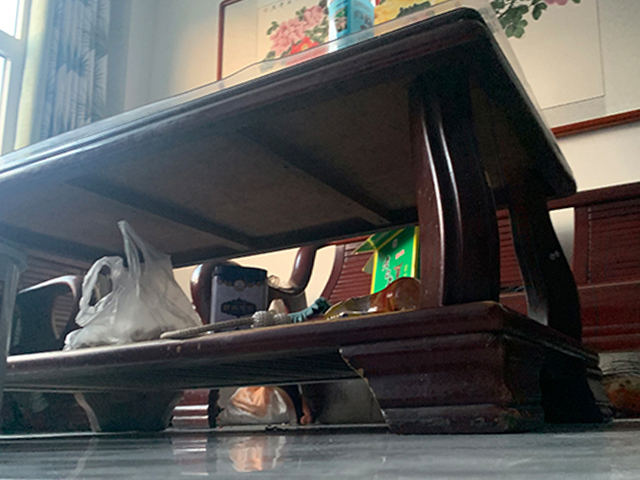table: (1, 1, 612, 435)
